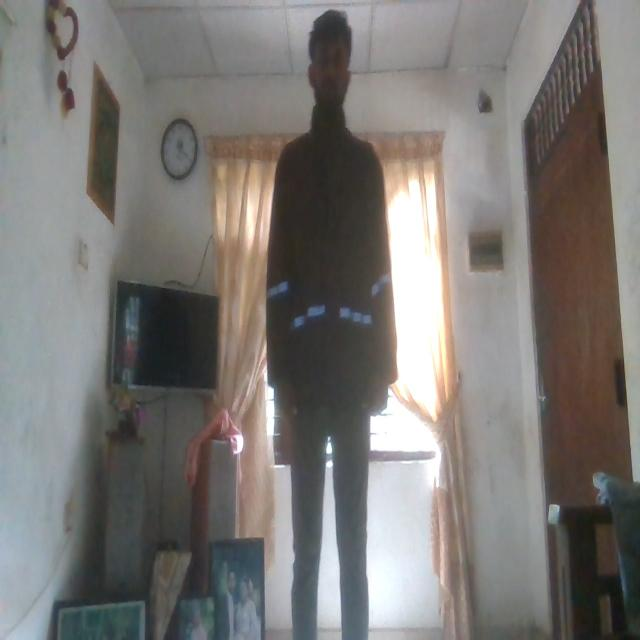Helmet_Wearer: (261, 116, 397, 426)
Person: (243, 1, 399, 640)
